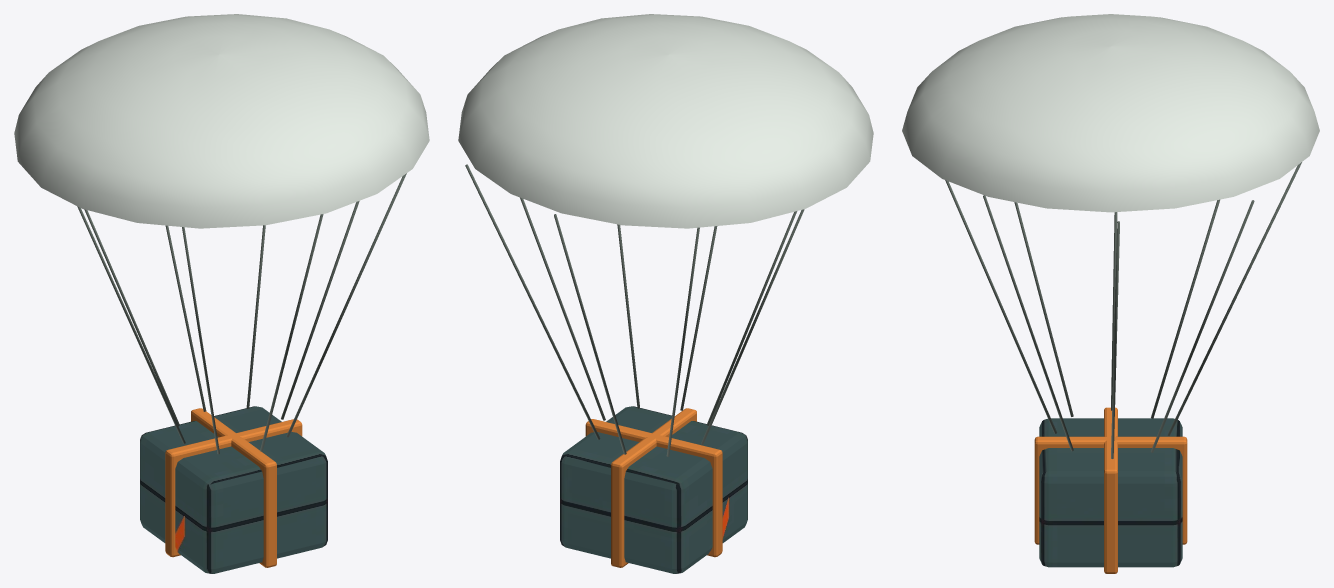
The model's file is pass65-care-crate-lod1.glb.
The picture shows the model from 3 angles, left to right: view 1: azimuth 30°, elevation 25°; view 2: azimuth 150°, elevation 25°; view 3: azimuth 270°, elevation 25°; orthographic projection.
Parts seen in each view (by area): view 1: Care_ParachuteCanopy_LOD1, Care_CrateBody_LOD1, Care_CrateStrapY_LOD1, Care_CrateStrapX_LOD1, Care_ParachuteLine_7_LOD1, Care_ParachuteLine_4_LOD1, Care_ParachuteLine_6_LOD1, Care_ParachuteLine_0_LOD1, Care_ParachuteLine_5_LOD1, Care_ParachuteLine_3_LOD1, Care_ParachuteLine_2_LOD1, Care_ParachuteLine_1_LOD1; view 2: Care_ParachuteCanopy_LOD1, Care_CrateBody_LOD1, Care_CrateStrapX_LOD1, Care_CrateStrapY_LOD1, Care_ParachuteLine_1_LOD1, Care_ParachuteLine_2_LOD1, Care_ParachuteLine_4_LOD1, Care_ParachuteLine_0_LOD1, Care_ParachuteLine_3_LOD1, Care_ParachuteLine_5_LOD1, Care_ParachuteLine_6_LOD1, Care_ParachuteLine_7_LOD1; view 3: Care_ParachuteCanopy_LOD1, Care_CrateBody_LOD1, Care_CrateStrapY_LOD1, Care_CrateStrapX_LOD1, Care_ParachuteLine_2_LOD1, Care_ParachuteLine_6_LOD1, Care_ParachuteLine_7_LOD1, Care_ParachuteLine_1_LOD1, Care_ParachuteLine_0_LOD1, Care_ParachuteLine_3_LOD1, Care_ParachuteLine_5_LOD1, Care_ParachuteLine_4_LOD1.
Part boxes in pixels (x1,y1,x2,y2): Care_ParachuteCanopy_LOD1: [14, 14, 429, 228]; Care_CrateBody_LOD1: [140, 406, 327, 573]; Care_CrateStrapY_LOD1: [191, 408, 276, 567]; Care_CrateStrapX_LOD1: [165, 419, 302, 557]; Care_ParachuteLine_7_LOD1: [286, 173, 406, 437]; Care_ParachuteLine_4_LOD1: [77, 206, 185, 443]; Care_ParachuteLine_6_LOD1: [260, 214, 323, 451]; Care_ParachuteLine_0_LOD1: [281, 201, 359, 419]; Care_ParachuteLine_5_LOD1: [182, 227, 219, 454]; Care_ParachuteLine_3_LOD1: [84, 209, 179, 426]; Care_ParachuteLine_2_LOD1: [165, 225, 206, 411]; Care_ParachuteLine_1_LOD1: [246, 225, 265, 408]; Care_ParachuteCanopy_LOD1: [458, 14, 873, 228]; Care_CrateBody_LOD1: [560, 406, 747, 573]; Care_CrateStrapX_LOD1: [585, 419, 722, 557]; Care_CrateStrapY_LOD1: [611, 408, 696, 567]; Care_ParachuteLine_1_LOD1: [465, 164, 600, 439]; Care_ParachuteLine_2_LOD1: [554, 214, 626, 454]; Care_ParachuteLine_4_LOD1: [701, 209, 804, 444]; Care_ParachuteLine_0_LOD1: [520, 197, 605, 420]; Care_ParachuteLine_3_LOD1: [666, 227, 699, 456]; Care_ParachuteLine_5_LOD1: [706, 211, 797, 425]; Care_ParachuteLine_6_LOD1: [680, 226, 717, 410]; Care_ParachuteLine_7_LOD1: [617, 224, 639, 408]; Care_ParachuteCanopy_LOD1: [902, 14, 1319, 212]; Care_CrateBody_LOD1: [1039, 418, 1182, 567]; Care_CrateStrapY_LOD1: [1034, 436, 1187, 544]; Care_CrateStrapX_LOD1: [1104, 407, 1117, 573]; Care_ParachuteLine_2_LOD1: [1167, 162, 1301, 435]; Care_ParachuteLine_6_LOD1: [945, 180, 1056, 433]; Care_ParachuteLine_7_LOD1: [983, 195, 1073, 451]; Care_ParachuteLine_1_LOD1: [1151, 200, 1254, 452]; Care_ParachuteLine_0_LOD1: [1111, 221, 1119, 458]; Care_ParachuteLine_3_LOD1: [1151, 199, 1219, 418]; Care_ParachuteLine_5_LOD1: [1014, 202, 1073, 416]; Care_ParachuteLine_4_LOD1: [1111, 212, 1117, 410].
Bounding box in the file's own units: 3.56 × 4.6 × 3.56.
Materials: 4 (1 with a texture image).
